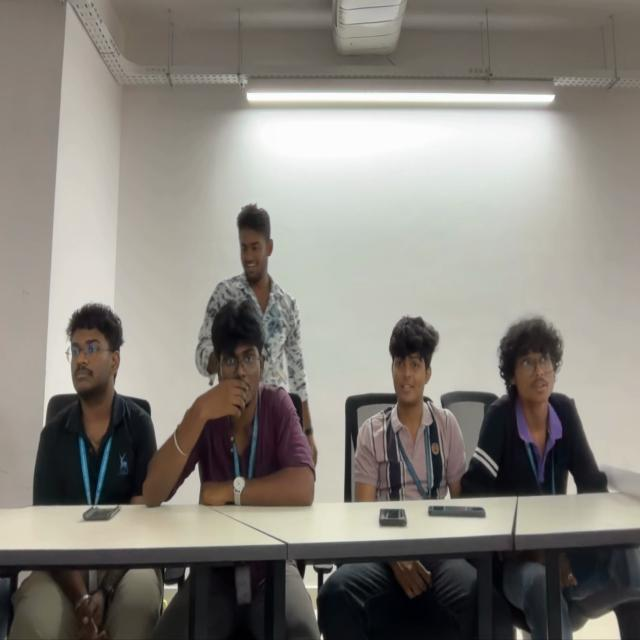Isolated: (148, 305, 315, 513), (474, 315, 606, 494), (32, 306, 144, 502), (350, 316, 465, 500)
